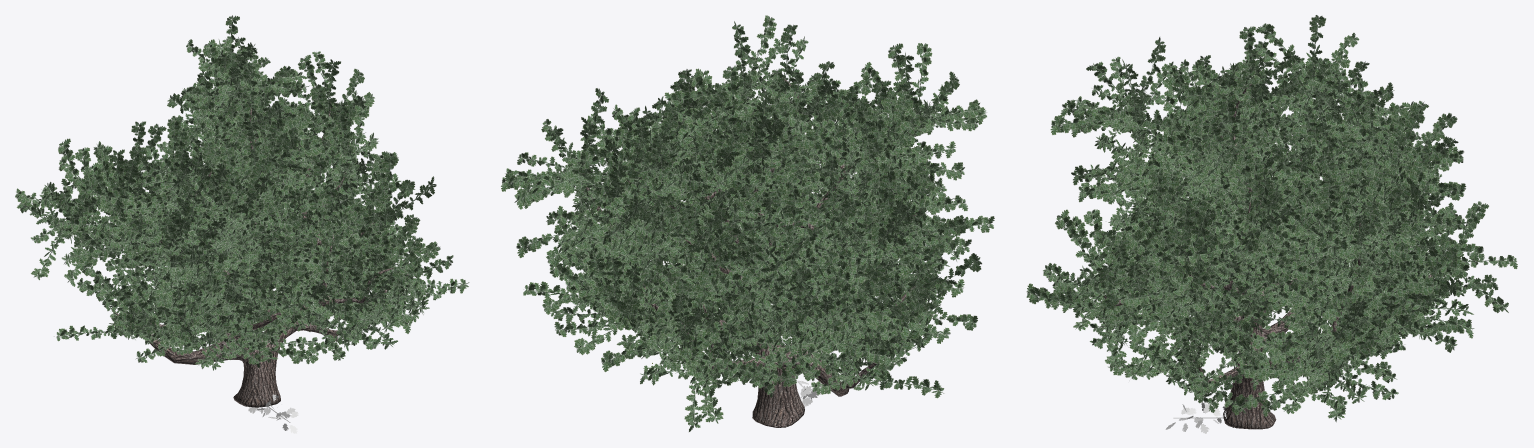
Rendered from dob_koncni_siv_foto2.gltf.
The picture shows the model from 3 angles, left to right: view 1: azimuth 30°, elevation 25°; view 2: azimuth 150°, elevation 25°; view 3: azimuth 270°, elevation 25°; orthographic projection. The views are drawn at different scales.
Visible parts, largest first — view 1: dob_novaveja_foto.196, dob_novaveja_foto.001, og_deblo_veje, vejicaa; view 2: dob_novaveja_foto.001, dob_novaveja_foto.196, og_deblo_veje; view 3: dob_novaveja_foto.196, dob_novaveja_foto.001, og_deblo_veje, vejicaa.
Boxes of the visible parts, x1,y1,x2,y2 form: dob_novaveja_foto.196: [54, 51, 469, 370]; dob_novaveja_foto.001: [15, 15, 432, 369]; og_deblo_veje: [114, 101, 408, 407]; vejicaa: [248, 394, 298, 433]; dob_novaveja_foto.001: [523, 15, 987, 388]; dob_novaveja_foto.196: [501, 24, 994, 431]; og_deblo_veje: [582, 77, 920, 427]; dob_novaveja_foto.196: [1026, 26, 1517, 422]; dob_novaveja_foto.001: [1050, 15, 1483, 417]; og_deblo_veje: [1103, 83, 1445, 429]; vejicaa: [1165, 402, 1233, 433].
Bounding box in the file's own units: 16.96 × 16.56 × 17.57.
Materials: 5 (2 with a texture image).
